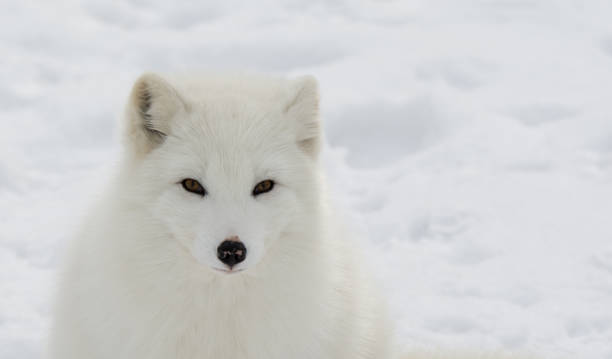arcticfox: (159, 119, 292, 280)
